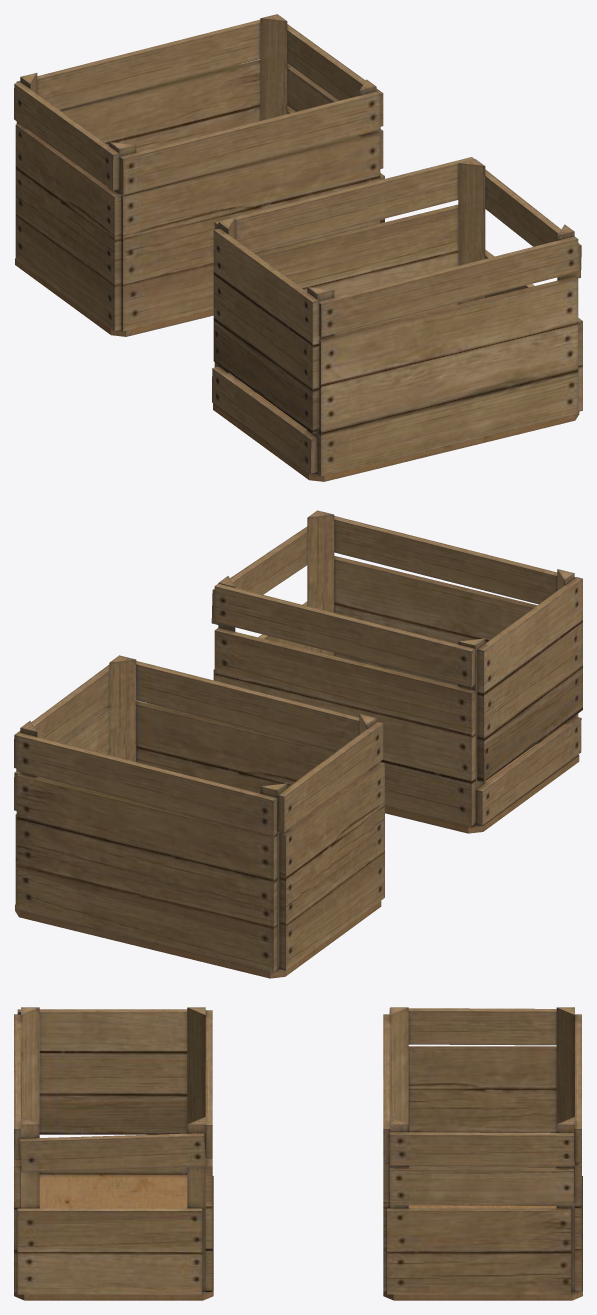
File: crate_a.glb
3 renders of one model, top to bottom at view 1: azimuth 30°, elevation 25°; view 2: azimuth 150°, elevation 25°; view 3: azimuth 270°, elevation 25°, orthographic. The views are drawn at different scales.
Parts seen in each view (by area): view 1: crate_2_crate_2_0; view 2: crate_2_crate_2_0; view 3: crate_2_crate_2_0.
Part boxes in pixels (left/top/right/bottom): crate_2_crate_2_0: left=14, top=14, right=582, bottom=481; crate_2_crate_2_0: left=14, top=510, right=582, bottom=978; crate_2_crate_2_0: left=14, top=1007, right=582, bottom=1300.
Size of the model in its own units: 3.15 by 2.07 by 6.16.
2 materials, 2 textured.
